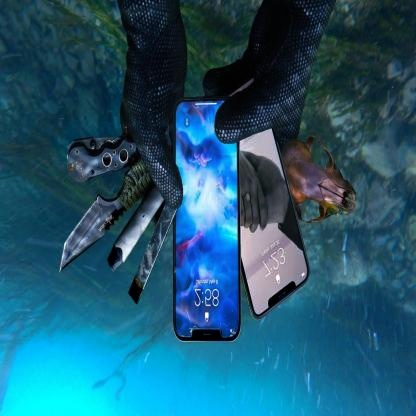cellphone: (205, 84, 312, 322), (172, 97, 242, 343)
misc: (57, 131, 181, 308)
